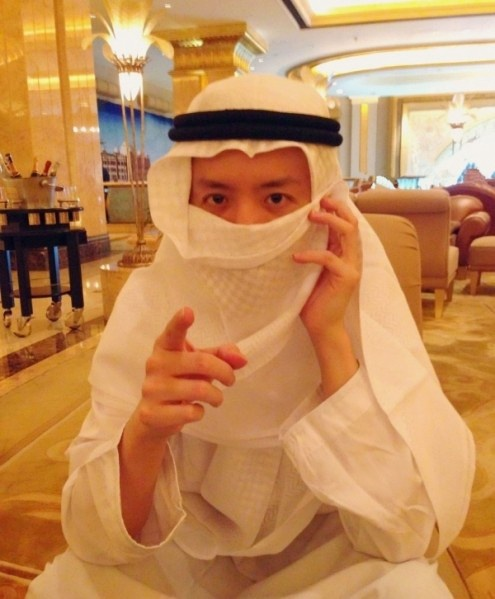face_mask: (181, 133, 315, 321)
